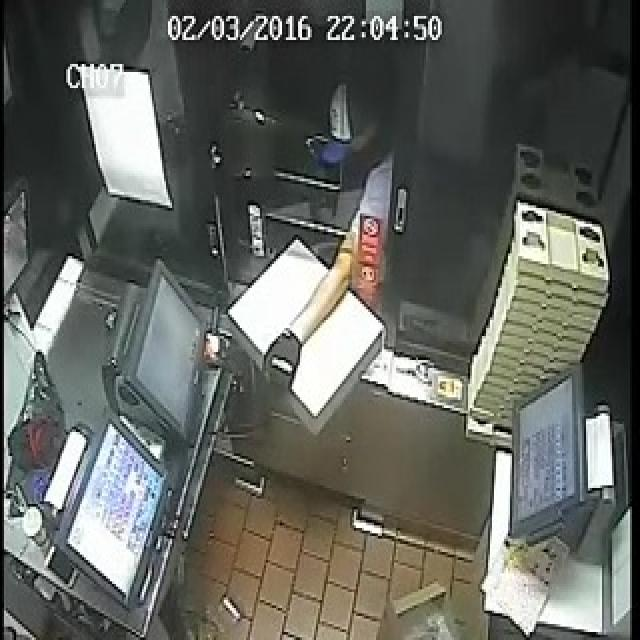thief: (297, 78, 410, 262)
